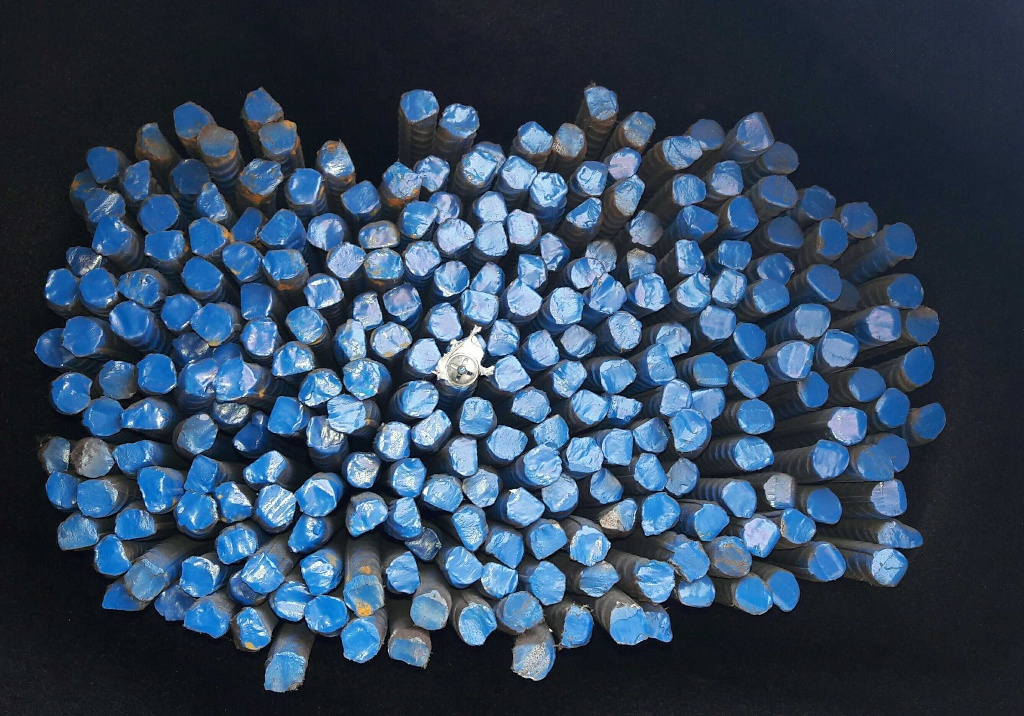dipstick: (214, 359, 256, 403), (669, 411, 712, 452), (635, 559, 675, 603), (265, 651, 305, 695), (231, 608, 271, 652), (340, 621, 382, 662), (138, 351, 179, 393), (173, 493, 217, 532), (178, 558, 220, 597), (458, 603, 496, 646), (94, 533, 132, 576), (254, 487, 294, 527), (215, 482, 254, 523), (63, 316, 102, 357), (97, 360, 138, 399), (76, 477, 115, 518), (506, 386, 549, 423), (54, 515, 97, 552), (531, 561, 567, 605), (523, 446, 562, 486), (819, 328, 860, 366), (299, 370, 341, 407), (642, 492, 678, 535), (89, 219, 132, 255), (51, 373, 94, 409), (71, 437, 114, 473), (609, 602, 644, 646), (453, 507, 487, 552), (735, 113, 774, 152), (126, 561, 165, 600), (347, 499, 387, 537), (721, 478, 758, 519), (674, 540, 710, 582), (447, 546, 483, 588), (171, 100, 213, 136), (626, 274, 669, 309), (840, 200, 878, 239), (714, 537, 752, 576), (425, 473, 464, 511), (288, 516, 326, 555), (387, 498, 424, 538), (327, 395, 367, 432), (184, 602, 226, 637), (569, 527, 612, 561), (734, 575, 772, 613), (262, 209, 300, 247), (111, 439, 149, 477), (812, 440, 849, 479), (509, 643, 548, 680), (373, 420, 410, 459), (86, 397, 123, 436), (809, 543, 845, 583), (457, 289, 497, 325), (344, 575, 384, 611), (343, 360, 379, 400), (370, 323, 410, 359), (241, 87, 281, 123), (222, 243, 262, 279), (136, 196, 176, 232), (732, 436, 773, 471), (503, 594, 544, 629), (386, 554, 421, 595), (579, 561, 621, 595), (542, 475, 580, 512), (267, 397, 304, 435), (179, 416, 217, 453), (43, 474, 81, 511), (758, 171, 797, 207), (565, 437, 604, 473), (606, 310, 642, 349), (389, 634, 428, 670), (306, 596, 345, 632), (460, 398, 495, 438), (263, 248, 304, 282), (102, 581, 144, 614), (121, 401, 167, 431), (142, 230, 185, 262), (887, 271, 924, 308), (829, 407, 867, 443), (599, 357, 637, 393), (506, 489, 542, 527), (410, 593, 448, 629), (299, 557, 337, 593), (244, 557, 282, 593), (731, 361, 770, 396), (442, 352, 481, 387), (562, 604, 593, 648), (137, 468, 168, 512), (808, 487, 842, 527), (635, 453, 668, 494), (463, 470, 496, 511), (413, 412, 454, 445), (84, 189, 126, 221), (554, 359, 590, 396), (383, 162, 419, 199), (271, 584, 308, 620), (287, 308, 324, 344), (193, 305, 230, 341), (181, 361, 217, 398), (135, 123, 172, 159), (487, 425, 525, 460), (428, 303, 463, 341), (884, 222, 918, 261), (869, 305, 903, 344), (492, 357, 531, 391), (342, 182, 381, 216), (110, 303, 149, 337), (880, 518, 924, 548), (768, 572, 801, 612), (117, 271, 158, 303), (240, 160, 282, 191), (693, 503, 729, 539), (590, 275, 626, 311), (399, 200, 435, 236), (286, 170, 322, 206), (35, 330, 71, 366), (778, 341, 813, 378), (675, 273, 712, 308), (319, 141, 354, 178), (243, 319, 278, 356), (173, 158, 210, 193), (85, 145, 120, 182), (36, 436, 71, 473), (154, 587, 191, 622), (871, 548, 905, 586), (744, 517, 778, 555), (663, 134, 701, 168), (442, 103, 480, 137), (415, 153, 449, 191), (529, 524, 567, 558), (336, 319, 369, 358), (766, 216, 806, 248), (751, 280, 791, 312), (297, 482, 337, 514), (274, 344, 314, 376), (604, 428, 635, 469), (163, 291, 194, 332), (383, 285, 419, 320), (260, 118, 296, 153), (800, 185, 837, 219), (644, 345, 678, 382), (308, 214, 342, 251), (904, 346, 937, 384), (874, 478, 907, 516), (737, 399, 775, 432), (324, 245, 363, 277), (303, 275, 342, 307), (197, 181, 229, 220), (399, 89, 439, 120), (216, 529, 256, 560), (795, 302, 830, 337), (633, 418, 668, 453), (239, 281, 274, 316), (585, 84, 619, 120), (458, 150, 494, 184), (506, 280, 542, 314), (528, 328, 562, 364), (488, 532, 524, 566), (66, 243, 102, 277), (436, 257, 469, 294), (407, 337, 440, 374), (394, 459, 427, 496), (198, 124, 235, 157), (508, 208, 540, 246), (642, 606, 673, 645), (694, 352, 729, 386), (548, 288, 583, 322), (438, 218, 473, 252), (188, 219, 223, 253), (807, 263, 840, 299), (781, 508, 817, 541), (531, 172, 567, 205), (472, 261, 508, 294), (183, 258, 219, 291), (682, 206, 719, 238), (306, 416, 343, 448), (876, 387, 907, 425), (849, 369, 887, 400), (879, 433, 910, 471), (184, 456, 215, 494), (819, 220, 849, 259), (728, 195, 758, 234), (676, 578, 715, 608), (364, 250, 403, 280), (119, 163, 149, 202), (244, 453, 284, 482), (760, 250, 794, 284), (573, 390, 607, 424), (862, 446, 895, 481), (604, 391, 639, 424), (584, 236, 617, 271), (482, 562, 517, 595), (906, 307, 938, 343), (667, 459, 699, 495), (660, 378, 692, 414), (673, 238, 709, 270), (517, 121, 553, 153), (474, 221, 510, 253), (405, 241, 441, 273), (447, 437, 479, 473), (209, 401, 250, 429), (602, 500, 635, 534), (487, 322, 520, 356), (79, 269, 112, 303), (688, 117, 723, 149), (691, 388, 723, 423), (589, 469, 624, 501), (233, 419, 268, 451), (914, 403, 945, 439), (426, 191, 462, 222), (403, 382, 439, 413), (799, 370, 829, 407), (703, 304, 733, 341), (578, 160, 608, 197), (560, 325, 597, 355), (737, 321, 766, 359), (230, 572, 263, 605), (765, 139, 797, 173), (713, 271, 744, 306), (632, 211, 663, 246), (352, 291, 382, 327), (658, 323, 690, 356), (671, 175, 707, 204), (362, 221, 402, 247), (114, 512, 154, 538), (537, 233, 565, 270), (406, 530, 443, 558), (174, 333, 211, 361), (569, 198, 601, 230), (712, 160, 743, 193), (535, 418, 568, 449), (346, 455, 379, 486), (623, 112, 653, 146), (47, 270, 76, 305), (765, 474, 796, 505), (517, 253, 546, 286), (234, 206, 260, 242), (504, 155, 533, 187), (556, 123, 584, 156), (572, 258, 604, 286), (616, 177, 640, 214), (624, 247, 658, 273), (478, 191, 507, 221), (475, 140, 506, 168), (719, 239, 747, 268), (609, 149, 640, 175), (837, 278, 862, 309), (70, 172, 97, 200), (210, 343, 242, 364)
